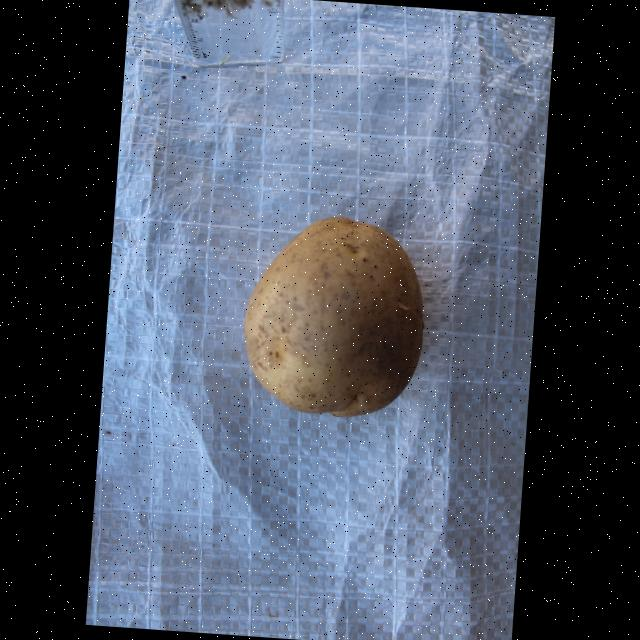Diseased-fungal potato: (234, 202, 436, 440)
